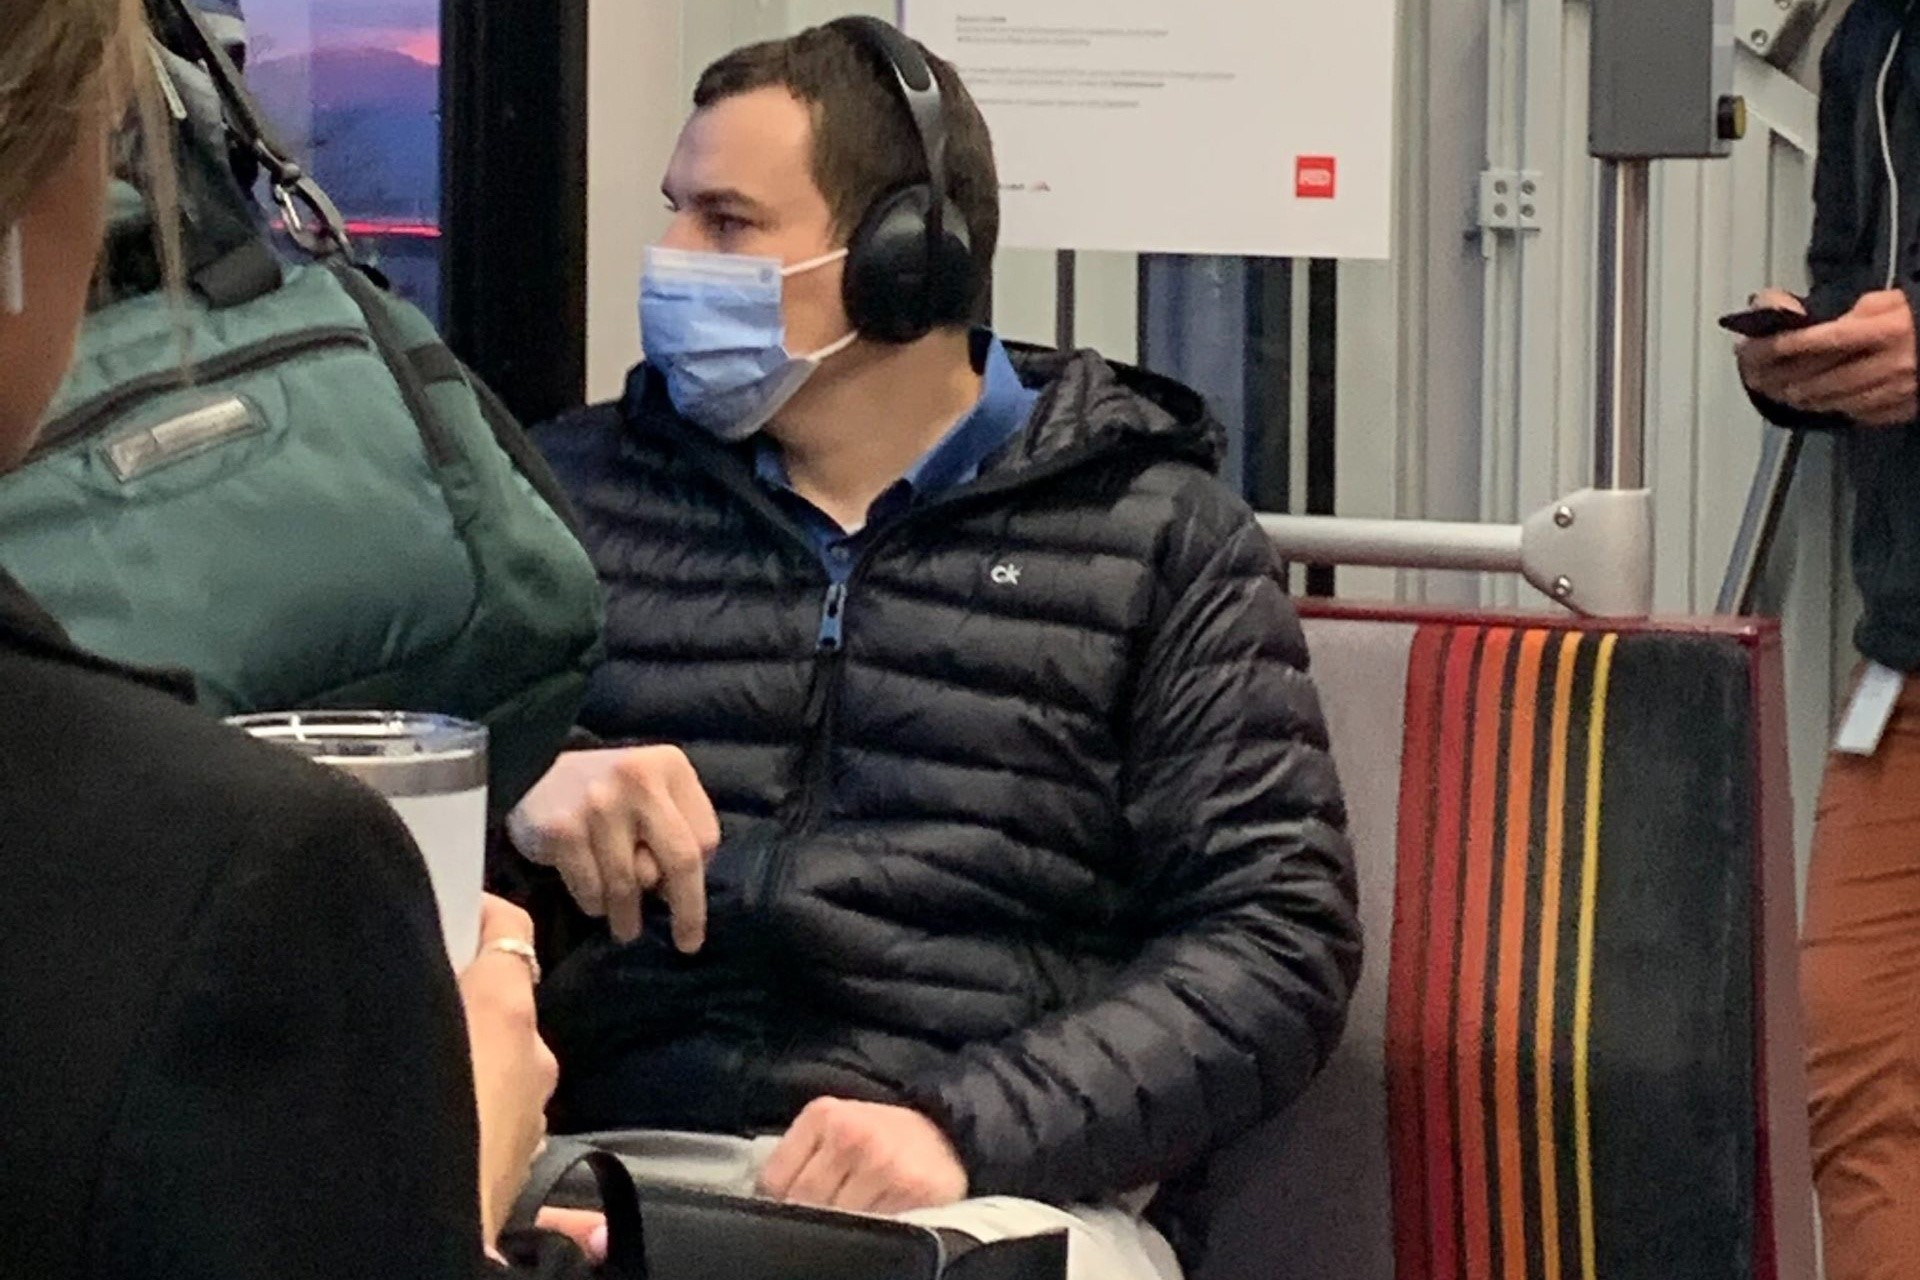face_with_mask: (630, 12, 1002, 445)
